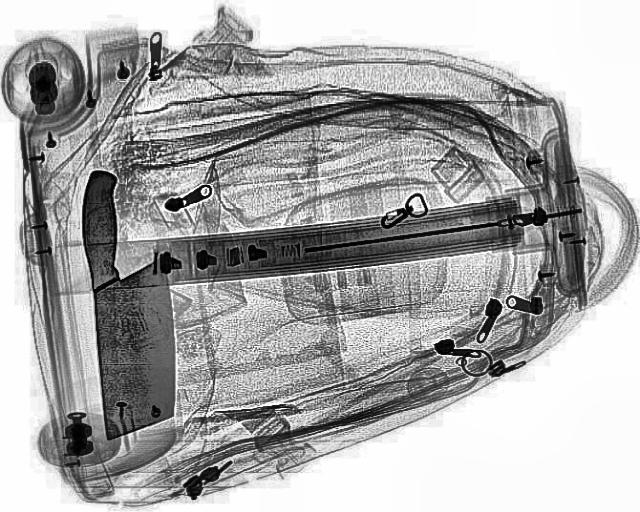Knife: (70, 165, 184, 439)
